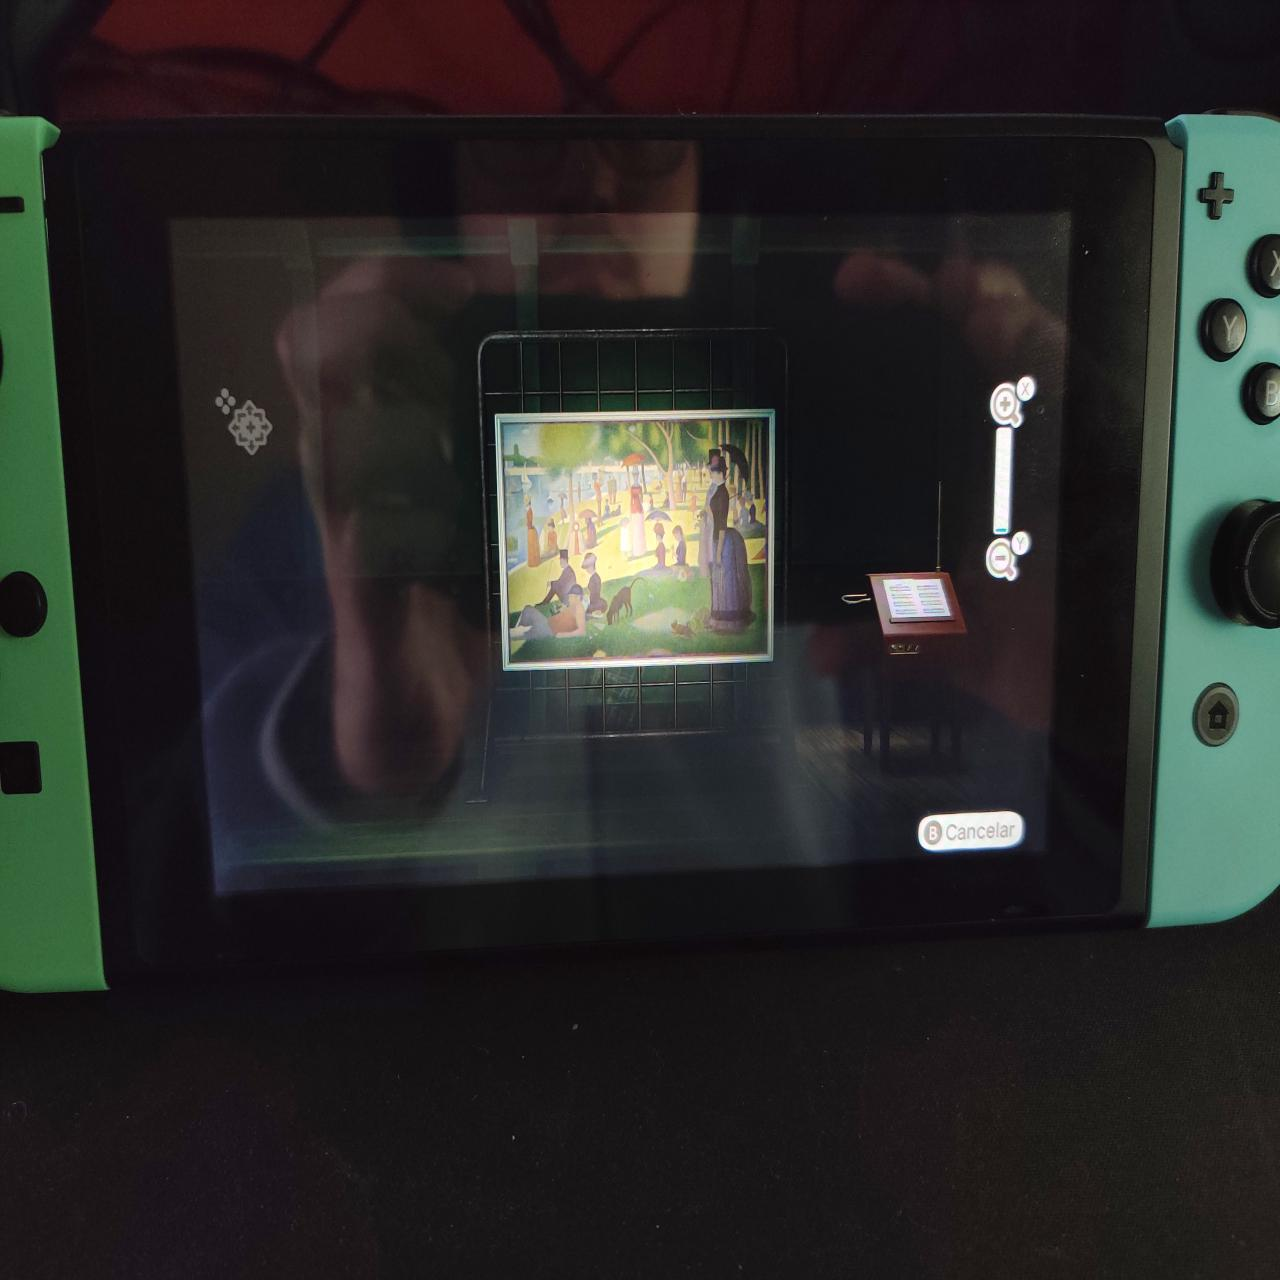SundayOn: (504, 424, 772, 656)
